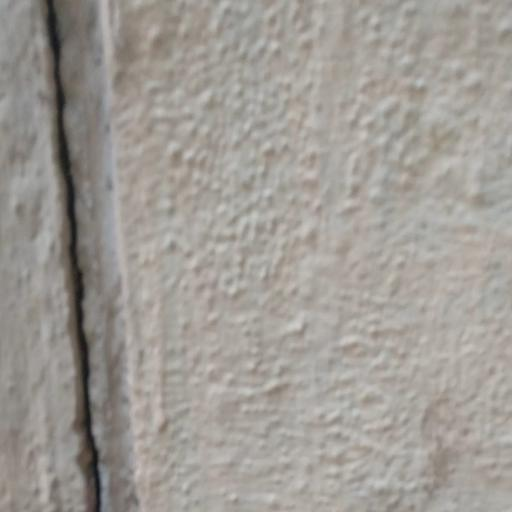minor_crack: (33, 0, 121, 512)
